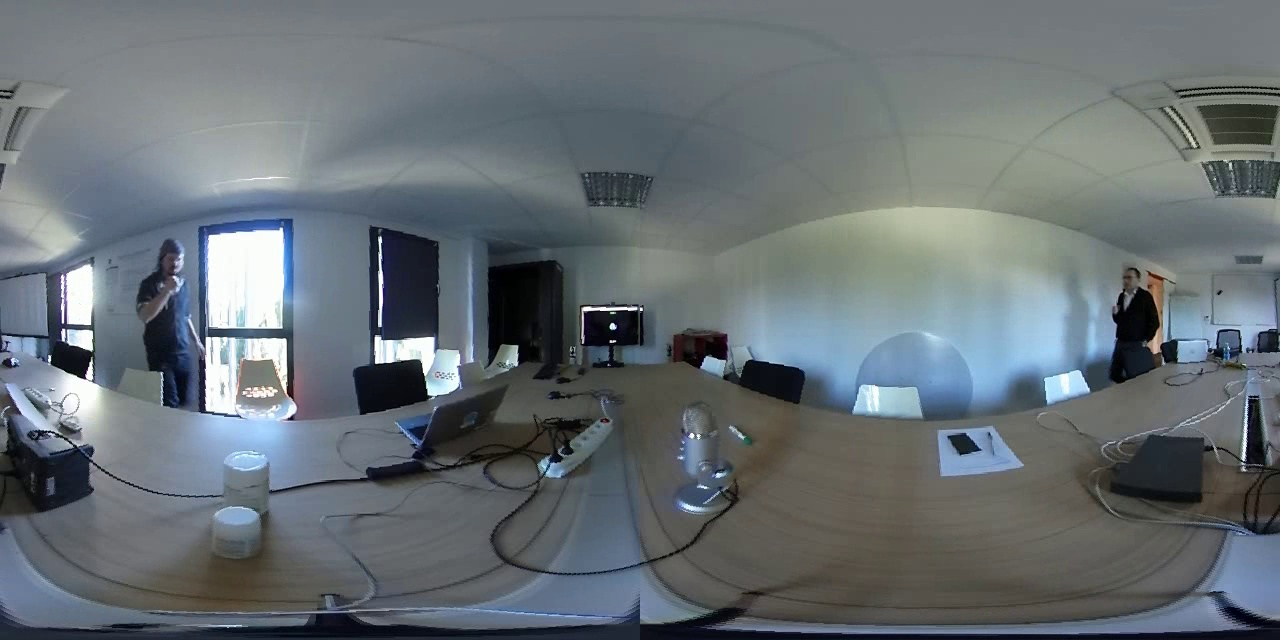person: (134, 224, 220, 397), (1107, 244, 1176, 382)
